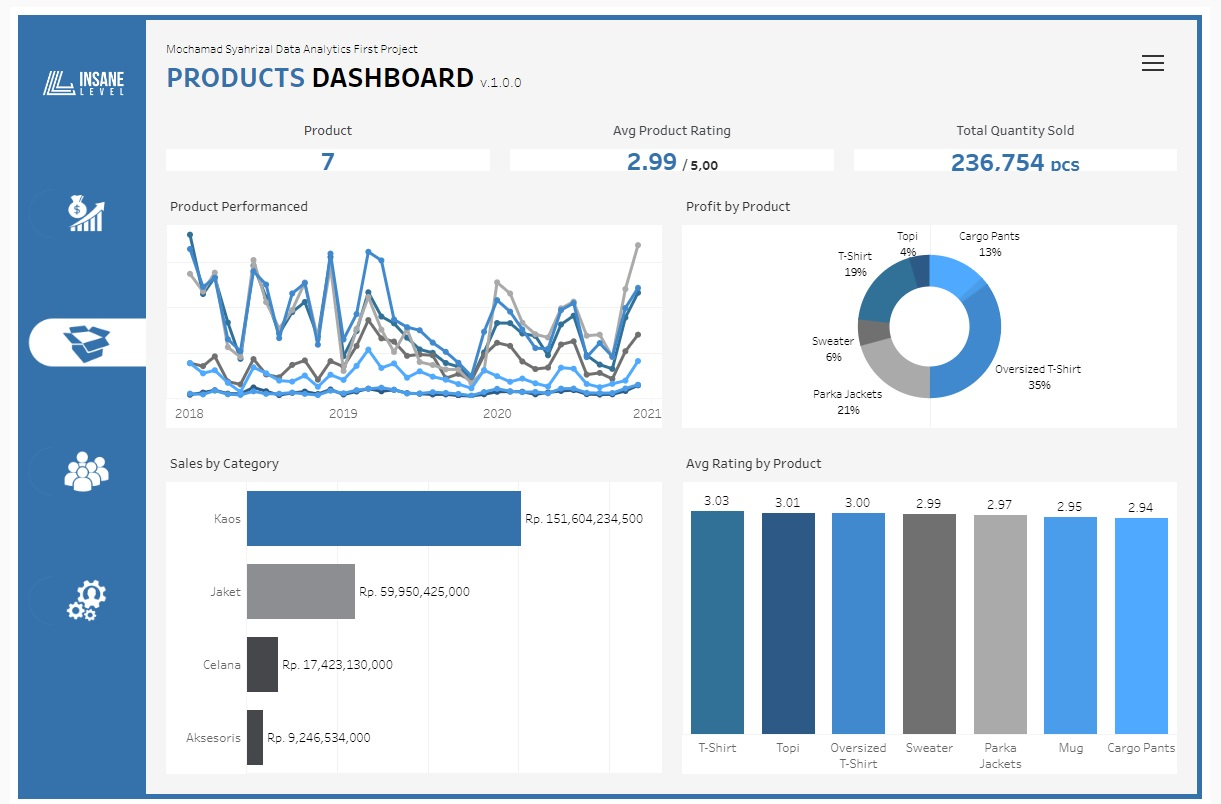

The page's visual inventory and layout, read from the dashboard file:
{"tool":"tableau","page":{"name":"Product Dashboard","canvas":[1200,800],"ordinal":2},"visuals":[{"type":"image","param":"E:/Aset Desain/Icon PNG/Logo Insane Level-09 (1).png","box":[13,13,123,129]},{"type":"text","box":[145.8,23,639.2,75.5]},{"type":"blank","box":[785,23,392,75.5]},{"type":"dashboard-object","box":[1131,44,24,24]},{"type":"text","box":[914,47,213,46]},{"type":"blank","box":[914,93,213,32]},{"type":"worksheet","title":"Product","mark":"Automatic","box":[146,98,344,76]},{"type":"worksheet","title":"Avg Product Rating","mark":"Automatic","box":[490,98,344,76]},{"type":"worksheet","title":"Total Quantity Sold","mark":"Automatic","box":[834,98,343,76]},{"type":"filter","title":"Avg Product Rating","param":"[federated.01lx92d1nhccir14ncz2a186vefz].[none:tanggal_order:qk]","box":[914,125,213,81]},{"type":"dashboard-object","box":[13,142,123,129]},{"type":"worksheet","title":"Product Performanced","mark":"Automatic","rows":["Total_Harga"],"cols":["tanggal_order"],"box":[146,174,516,257]},{"type":"worksheet","title":"Profit by Product","mark":"Pie","cols":["Calculation_463307868280573955","Calculation_463307868280573955"],"box":[662,174,515,257]},{"type":"blank","box":[914,206,213,39]},{"type":"filter","title":"Avg Product Rating","param":"[federated.01lx92d1nhccir14ncz2a186vefz].[none:kategori:nk]","box":[914,245,213,64]},{"type":"dashboard-object","box":[13,271,123,129]},{"type":"blank","box":[914,309,213,32]},{"type":"filter","title":"Product Performanced","param":"[federated.01lx92d1nhccir14ncz2a186vefz].[none:produk:nk]","box":[914,341,213,64]},{"type":"dashboard-object","box":[13,400,123,129]},{"type":"blank","box":[914,405,213,32]},{"type":"worksheet","title":"Sales by Category","mark":"Automatic","rows":["kategori"],"cols":["Total_Harga"],"box":[146,431,516,346]},{"type":"worksheet","title":"Avg Rating by Product","mark":"Automatic","rows":["Rating"],"cols":["produk"],"box":[662,431,515,346]},{"type":"blank","box":[914,437,213,74]},{"type":"dashboard-object","box":[13,529,123,129]},{"type":"blank","box":[13,658,123,129]}]}

Visuals, with their boxes in screenshot pixels (x1, y1, x2, y2), scaled from the page's 1200x800 canvas onto the 1221x804 screenshot:
image: x1=13 y1=13 x2=138 y2=143
text: x1=148 y1=23 x2=799 y2=99
blank: x1=799 y1=23 x2=1198 y2=99
dashboard-object: x1=1151 y1=44 x2=1175 y2=68
text: x1=930 y1=47 x2=1147 y2=93
blank: x1=930 y1=93 x2=1147 y2=126
"Product" worksheet: x1=149 y1=98 x2=499 y2=175
"Avg Product Rating" worksheet: x1=499 y1=98 x2=849 y2=175
"Total Quantity Sold" worksheet: x1=849 y1=98 x2=1198 y2=175
"Avg Product Rating" filter: x1=930 y1=126 x2=1147 y2=207
dashboard-object: x1=13 y1=143 x2=138 y2=272
"Product Performanced" worksheet: x1=149 y1=175 x2=674 y2=433
"Profit by Product" worksheet (Pie marks): x1=674 y1=175 x2=1198 y2=433
blank: x1=930 y1=207 x2=1147 y2=246
"Avg Product Rating" filter: x1=930 y1=246 x2=1147 y2=311
dashboard-object: x1=13 y1=272 x2=138 y2=402
blank: x1=930 y1=311 x2=1147 y2=343
"Product Performanced" filter: x1=930 y1=343 x2=1147 y2=407
dashboard-object: x1=13 y1=402 x2=138 y2=532
blank: x1=930 y1=407 x2=1147 y2=439
"Sales by Category" worksheet: x1=149 y1=433 x2=674 y2=781
"Avg Rating by Product" worksheet: x1=674 y1=433 x2=1198 y2=781
blank: x1=930 y1=439 x2=1147 y2=514
dashboard-object: x1=13 y1=532 x2=138 y2=661
blank: x1=13 y1=661 x2=138 y2=791
